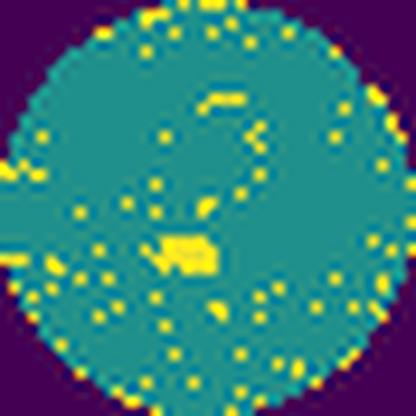Loc: (143, 231, 221, 281)
